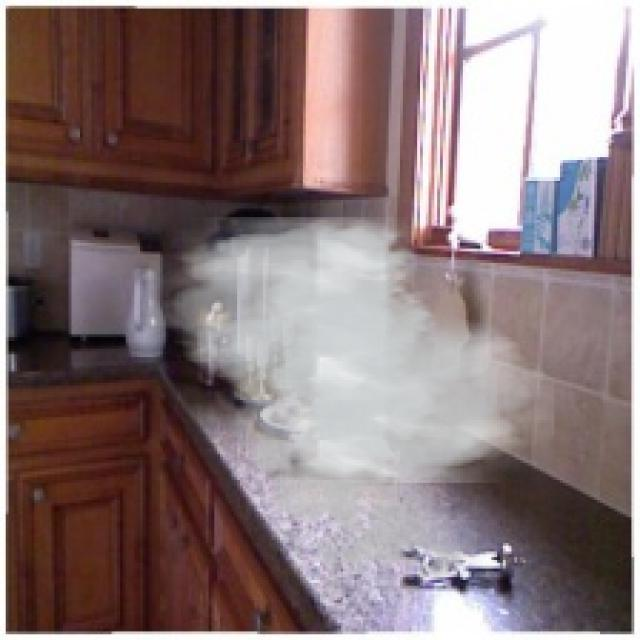smoke: (149, 217, 554, 594)
